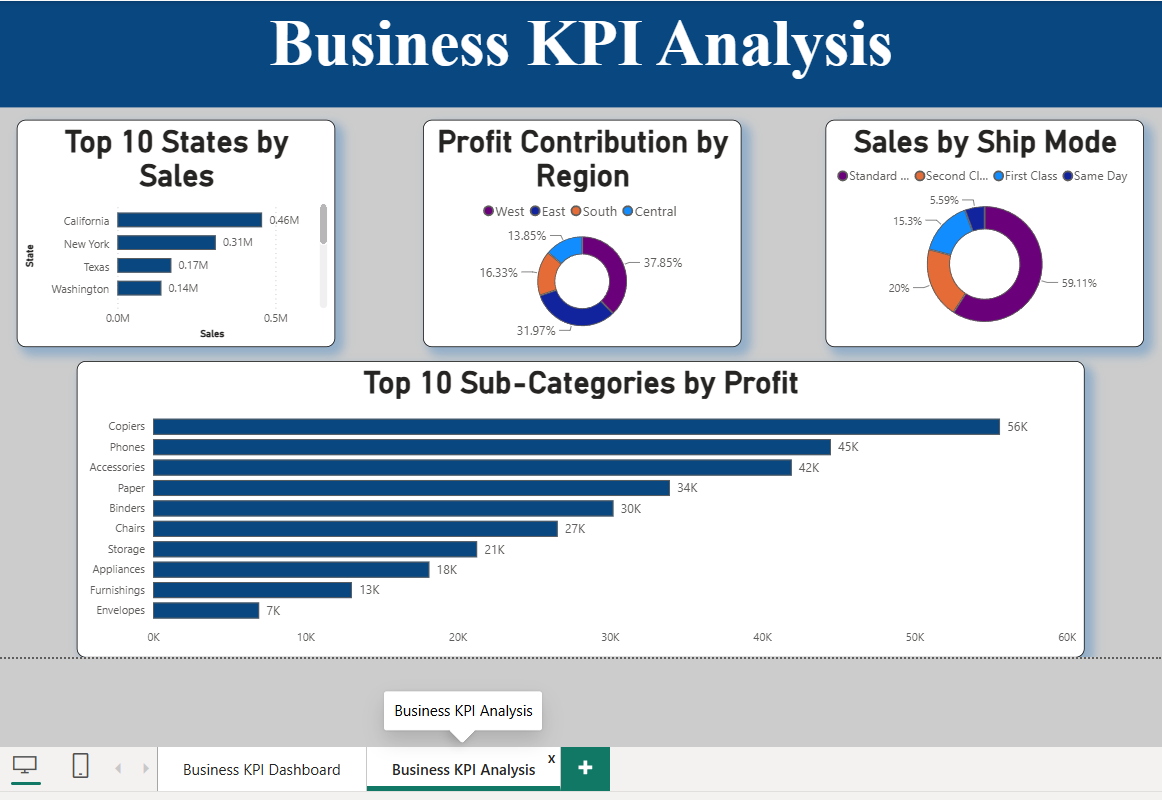

The dashboard page shown, as its layout file describes it:
{"tool":"powerbi","page":{"name":"Business KPI Analysis","canvas":[1280,720],"ordinal":1},"visuals":[{"type":"textbox","box":[0,0,1280.3,116.6],"z":1000},{"type":"clusteredBarChart","title":"Top 10 States by Sales","fields":{"Category":["Sheet1.State"],"Y":["Sum(Sheet1.Sales)"]},"box":[20.6,130.4,349.9,249.7],"z":1001},{"type":"donutChart","title":"Profit Contribution  by Region","fields":{"Category":["Sheet1.Region"],"Y":["Sum(Sheet1.Profit)"]},"box":[466.6,130.4,349.9,249.7],"z":1002},{"type":"donutChart","title":"Sales by Ship Mode","fields":{"Category":["Sheet1.Ship Mode"],"Y":["Sum(Sheet1.Sales)"]},"box":[908.4,130.4,349.9,249.7],"z":1003},{"type":"clusteredBarChart","title":"Top 10 Sub-Categories by Profit","fields":{"Category":["Sheet1.Sub-Category"],"Y":["Sum(Sheet1.Profit)"]},"box":[86.4,395.2,1106,325.2],"z":1004}]}

Visuals, with their boxes on the page's 1280x720 design canvas (x1, y1, x2, y2). These are canvas units, not pixel positions in the 1162x800 screenshot, which may show the page scaled, cropped or inside an application window:
textbox: region(0, 0, 1280, 117)
"Top 10 States by Sales" clusteredBarChart: region(21, 130, 370, 380)
"Profit Contribution  by Region" donutChart: region(467, 130, 816, 380)
"Sales by Ship Mode" donutChart: region(908, 130, 1258, 380)
"Top 10 Sub-Categories by Profit" clusteredBarChart: region(86, 395, 1192, 720)
